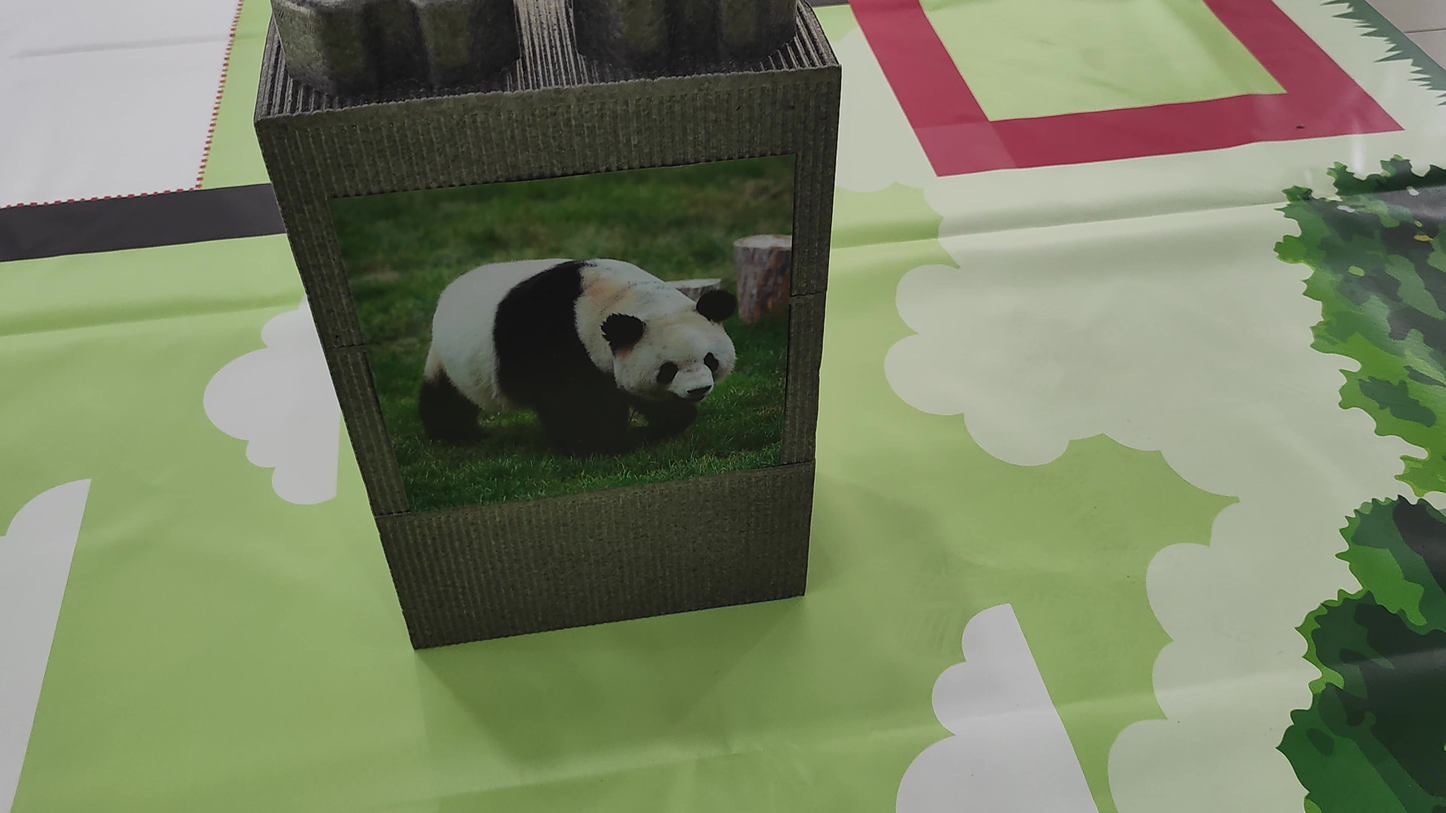panda: (350, 193, 763, 490)
